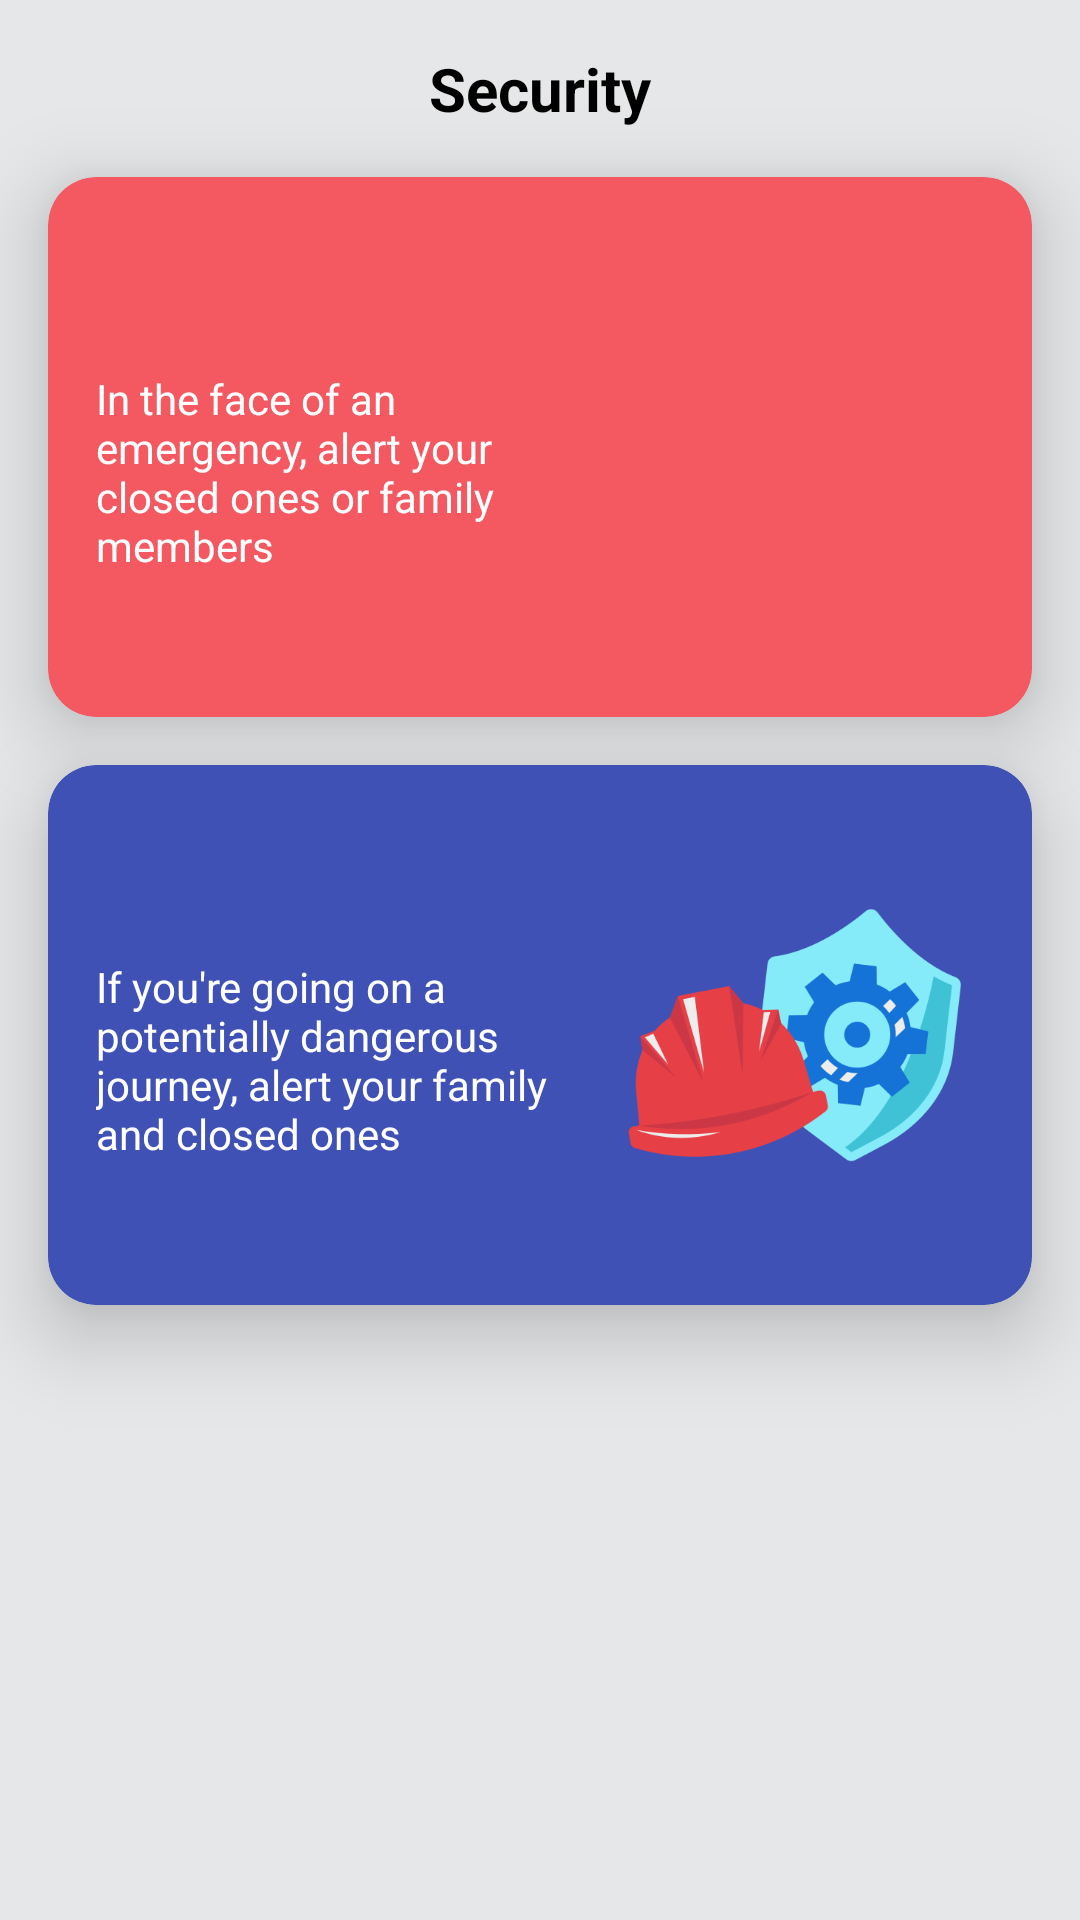

Named icons in this screenshot (1080px x 1920px) and their centers, (x=x, y=y):
guard: (x=794, y=1035)
